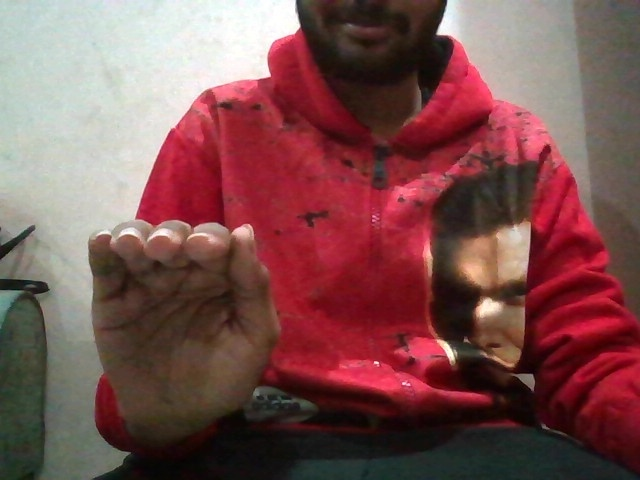C: (63, 212, 306, 444)
